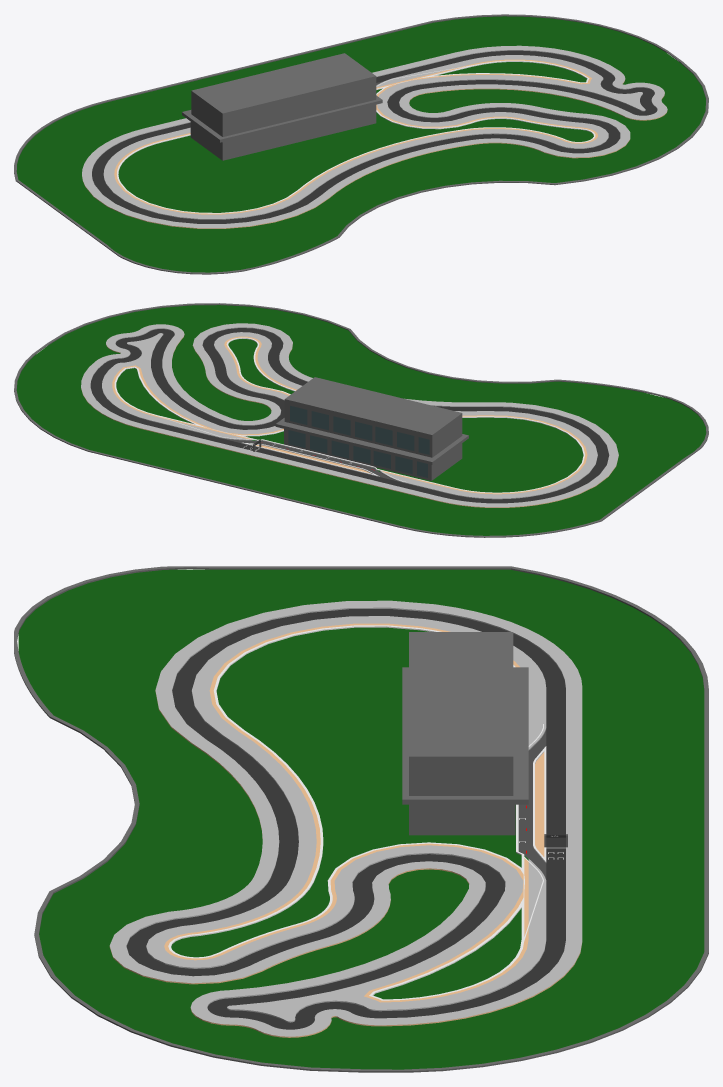
Rendered from Road.obj.
3 renders of one model, top to bottom at view 1: azimuth 30°, elevation 25°; view 2: azimuth 150°, elevation 25°; view 3: azimuth 270°, elevation 25°, orthographic. The views are drawn at different scales.
Parts seen in each view (by area): view 1: Mesh1 Model; view 2: Mesh1 Model; view 3: Mesh1 Model.
Boxes of the visible parts, x1,y1,x2,y2 form: Mesh1 Model: [14, 14, 708, 274]; Mesh1 Model: [14, 303, 708, 537]; Mesh1 Model: [14, 566, 708, 1072].
Size of the model in its own units: 489 by 35.52 by 285.
